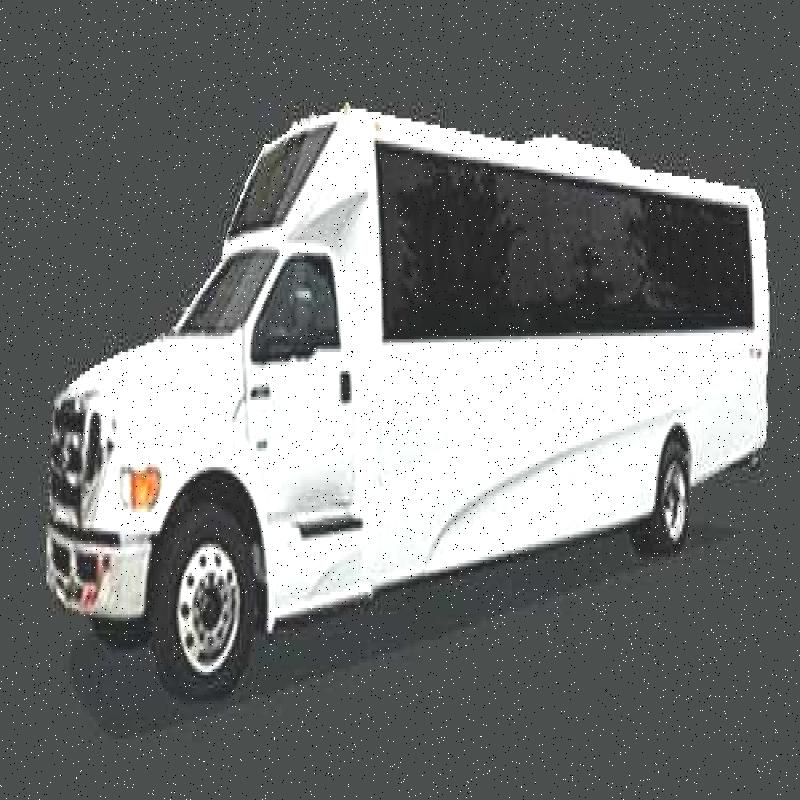bus: (39, 66, 778, 683)
